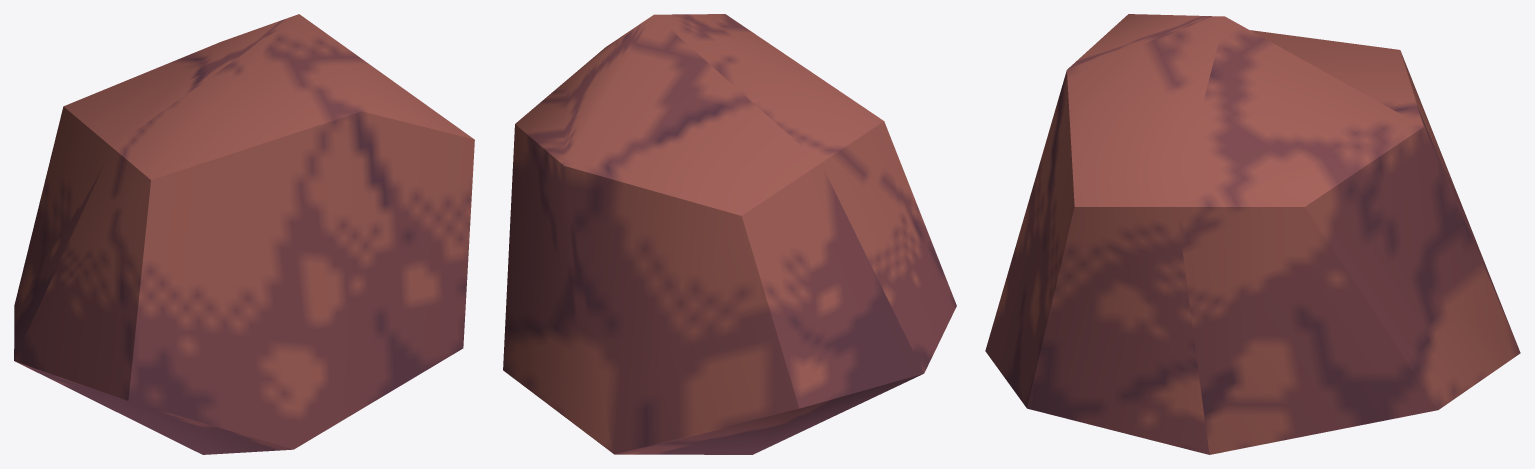
Rendered from model_pillar_5.obj.
3 renders of one model, left to right at view 1: azimuth 30°, elevation 25°; view 2: azimuth 150°, elevation 25°; view 3: azimuth 270°, elevation 25°, orthographic. The views are drawn at different scales.
Parts seen in each view (by area): view 1: pCube1; view 2: pCube1; view 3: pCube1.
Part boxes in pixels (<box>): pCube1: <box>14,14,474,454</box>; pCube1: <box>503,14,956,454</box>; pCube1: <box>985,14,1520,454</box>.
Bounding box in the file's own units: 5.37 × 4.99 × 4.92.
Materials: 1 (1 with a texture image).
